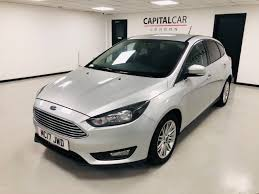Ford: (33, 33, 234, 167)
